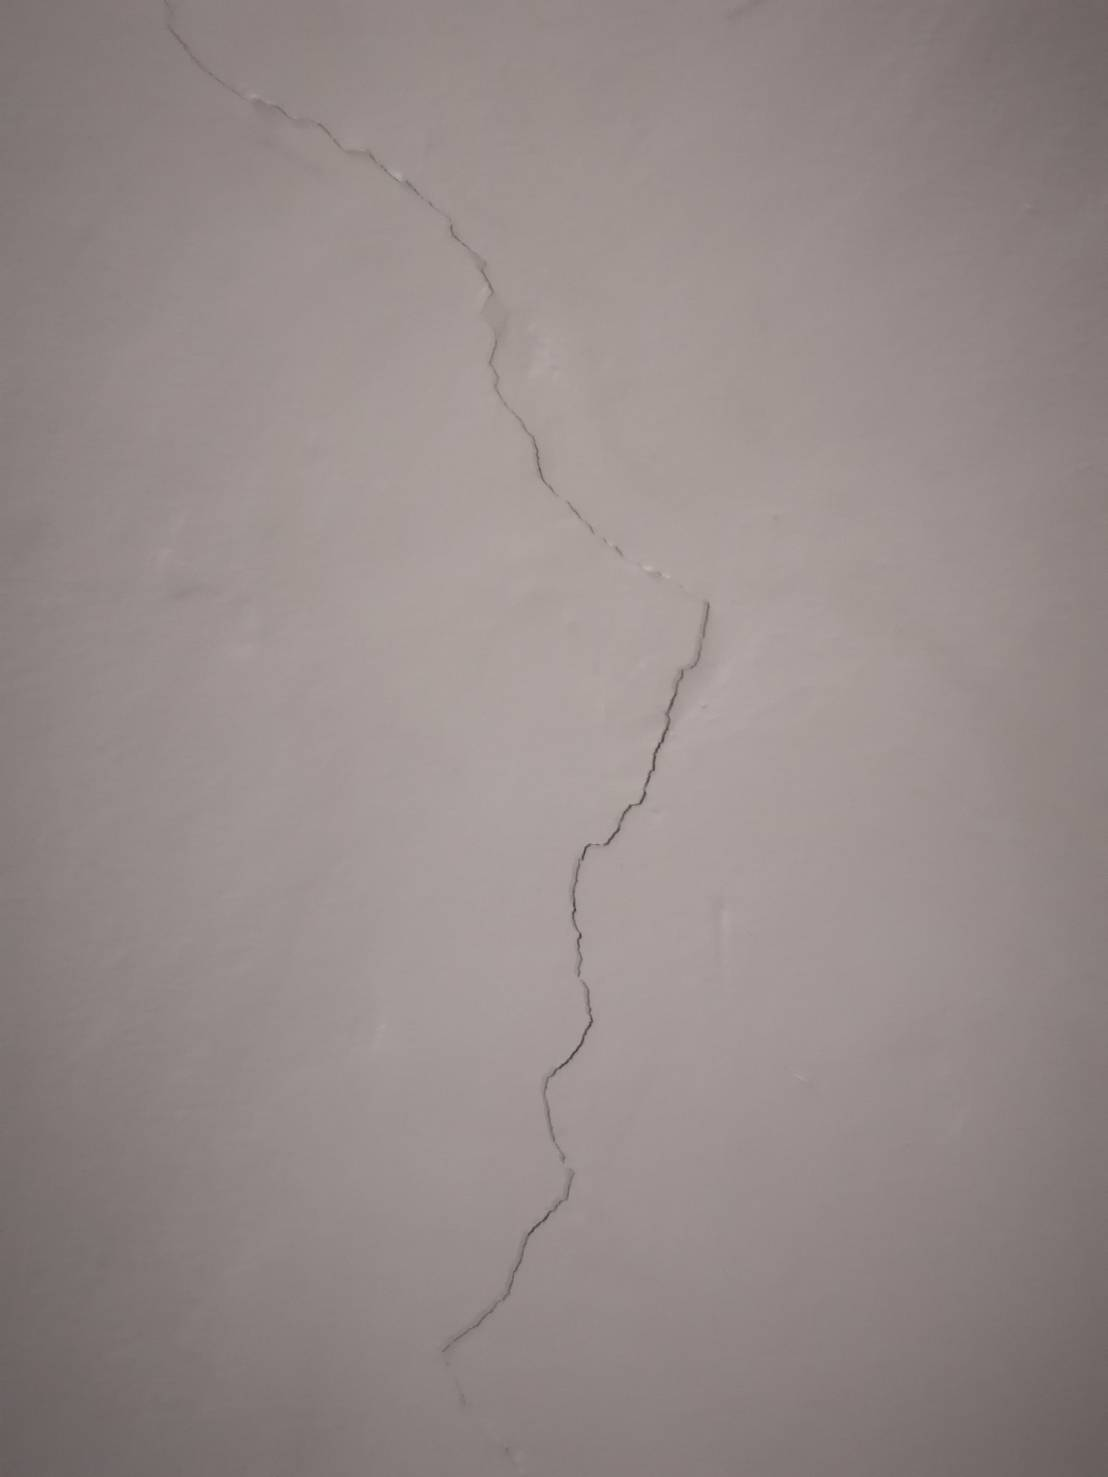Low: (159, 8, 739, 1477)
